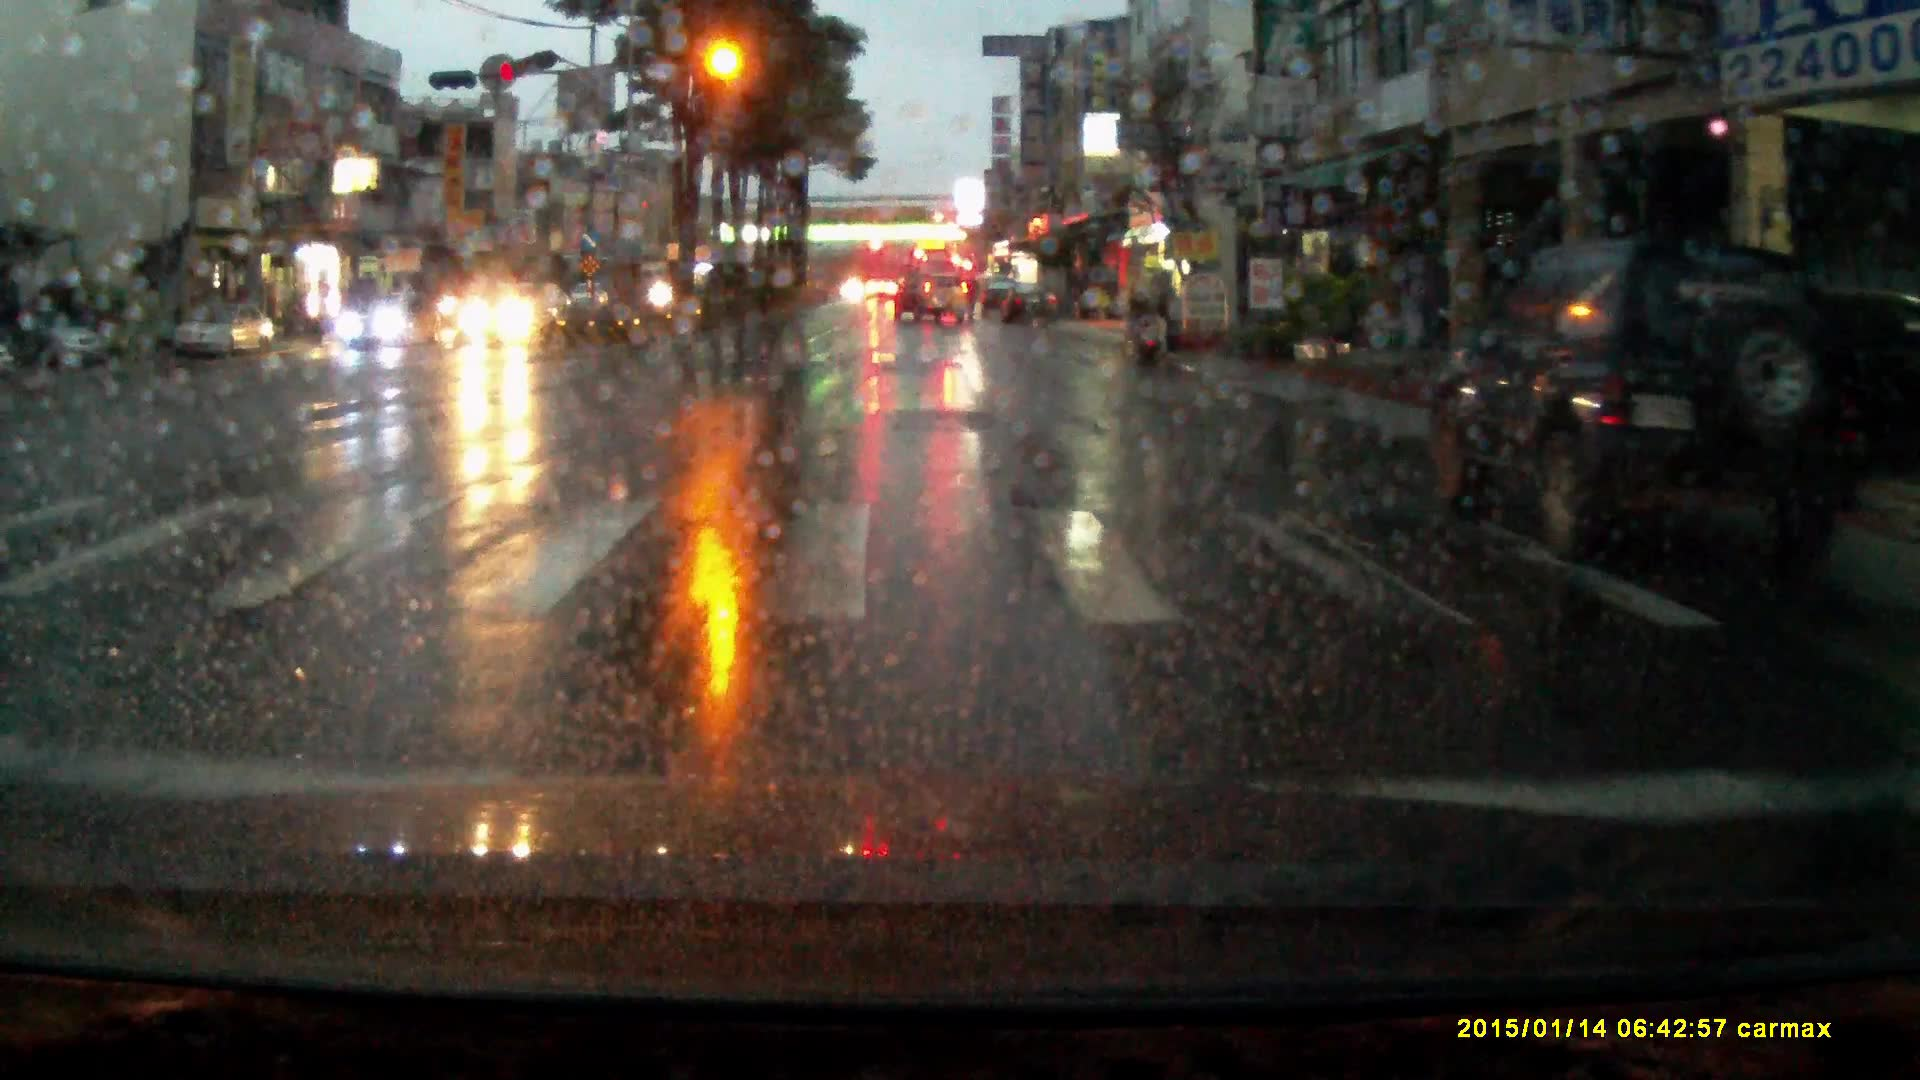vehicle: (1428, 239, 1861, 545), (460, 278, 562, 349), (171, 295, 280, 357), (339, 291, 443, 353), (25, 306, 103, 375), (893, 272, 971, 324), (910, 249, 952, 313), (998, 285, 1059, 326), (978, 276, 1013, 318), (572, 282, 611, 314), (865, 280, 902, 303)
